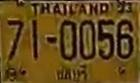0: (59, 19, 76, 60), (79, 19, 95, 59)
1: (32, 19, 38, 59)
5: (98, 19, 114, 59)
6: (116, 19, 132, 58)
7: (7, 19, 23, 59)
CBI: (53, 64, 91, 82)
